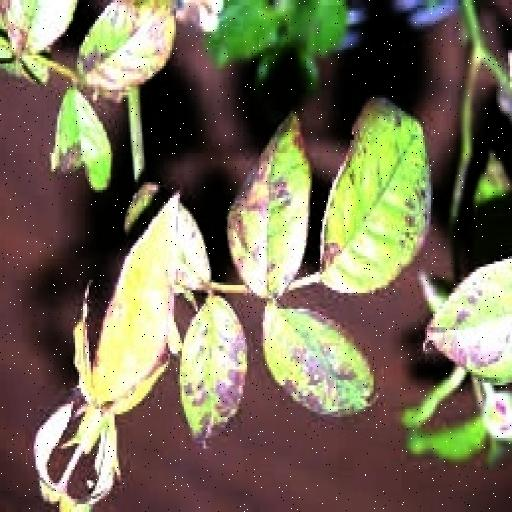downy_mildew: (321, 98, 430, 292), (91, 196, 179, 411), (228, 114, 312, 298), (263, 304, 373, 416), (426, 259, 511, 382), (180, 296, 247, 443), (78, 0, 175, 95), (52, 88, 112, 190), (208, 0, 280, 65), (0, 0, 77, 55), (408, 417, 488, 461), (287, 0, 347, 55)
